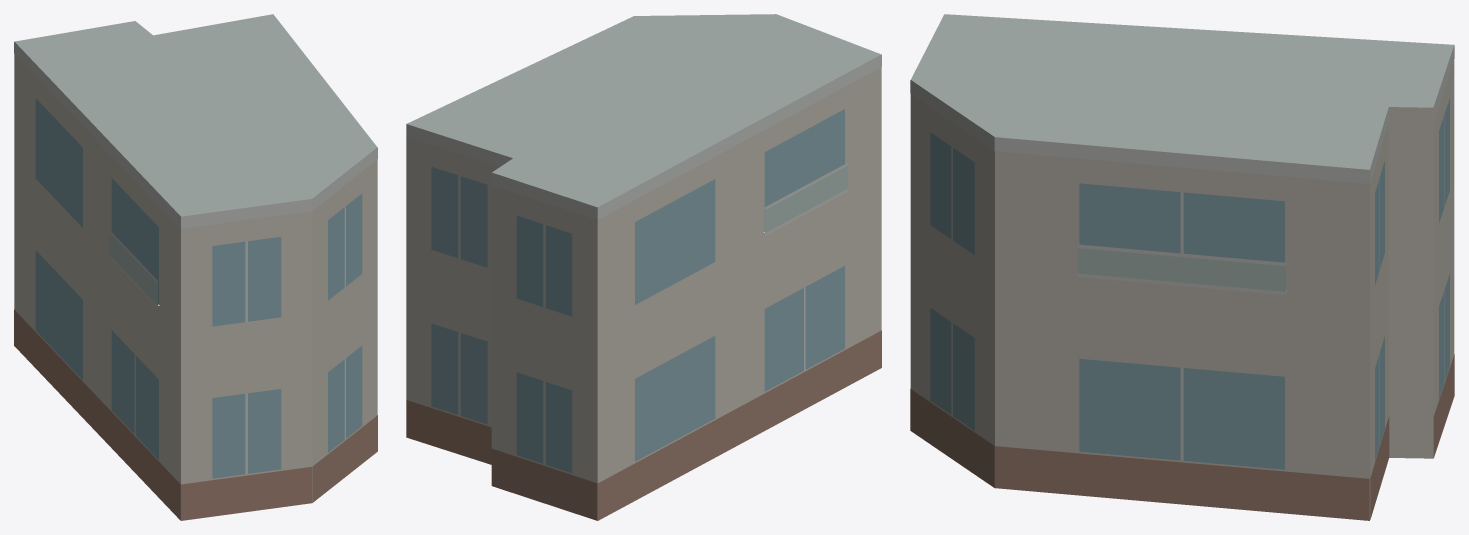
The model's file is survey-upis-32658826.glb.
3 renders of one model, left to right at view 1: azimuth 30°, elevation 25°; view 2: azimuth 150°, elevation 25°; view 3: azimuth 270°, elevation 25°, orthographic. The views are drawn at different scales.
Parts seen in each view (by area): view 1: survey-upis-32658826.tmp; view 2: survey-upis-32658826.tmp; view 3: survey-upis-32658826.tmp.
Boxes of the visible parts, x1=… form: survey-upis-32658826.tmp: x1=14, y1=14, x2=377, y2=520; survey-upis-32658826.tmp: x1=406, y1=14, x2=881, y2=520; survey-upis-32658826.tmp: x1=910, y1=14, x2=1454, y2=520.
Size of the model in its own units: 5.82 by 6.1 by 8.58.
